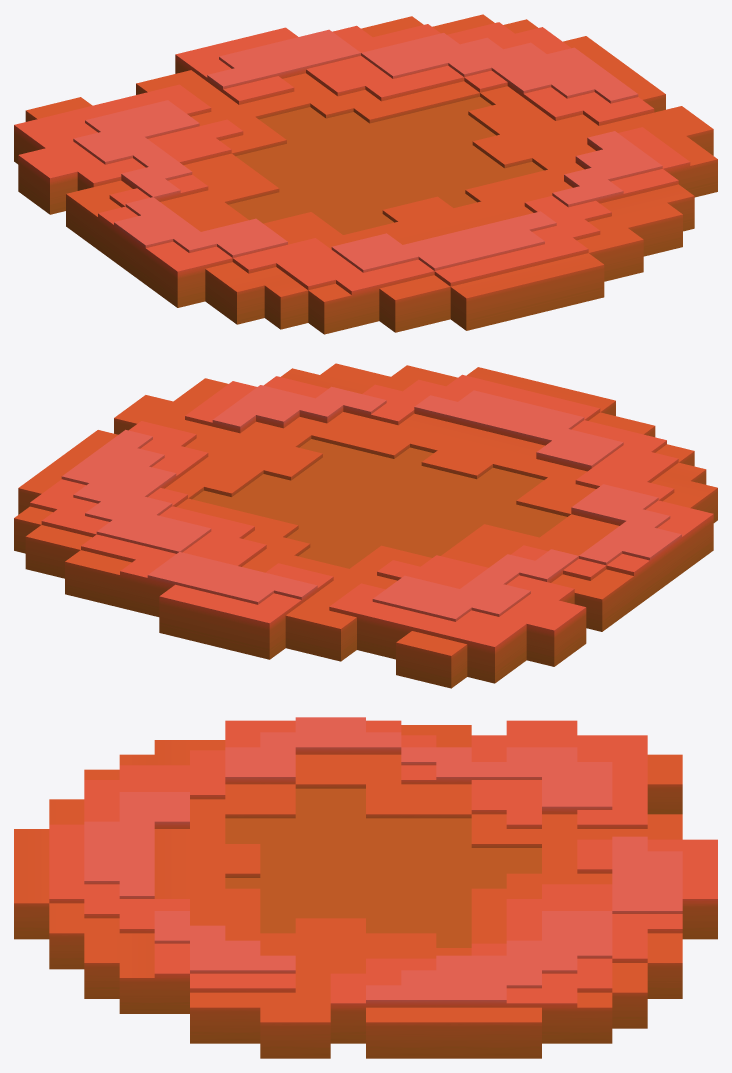
The model's file is spawner.glb.
The picture shows the model from 3 angles, top to bottom: view 1: azimuth 30°, elevation 25°; view 2: azimuth 150°, elevation 25°; view 3: azimuth 270°, elevation 25°; orthographic projection. The views are drawn at different scales.
Visible parts, largest first — view 1: spawner; view 2: spawner; view 3: spawner.
Part boxes in pixels (left/top/right/bottom): spawner: left=14, top=14, right=717, bottom=334; spawner: left=14, top=363, right=717, bottom=688; spawner: left=14, top=717, right=717, bottom=1058.
Size of the model in its own units: 40 by 6.26 by 40.
Materials: 1 (1 with a texture image).
